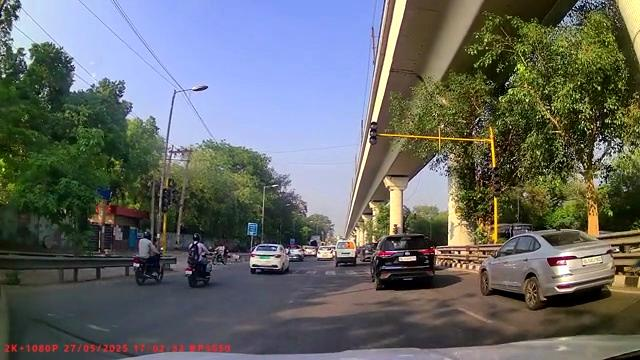motorcycle_with_helmet: (132, 230, 164, 286), (183, 231, 213, 289)
